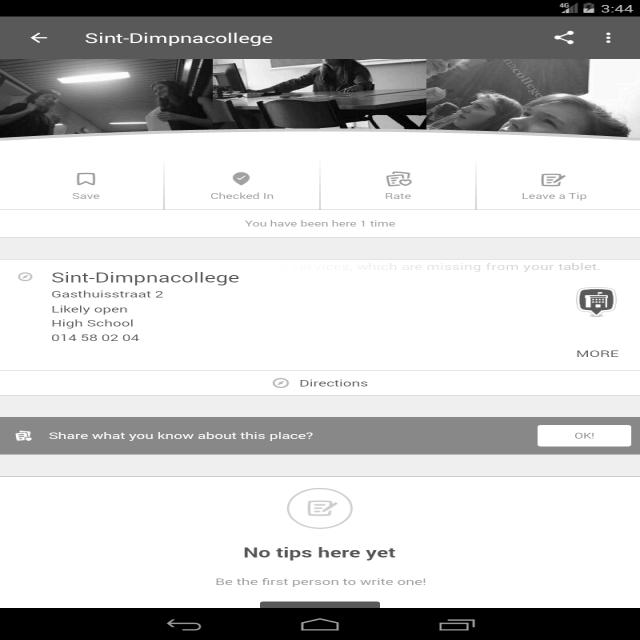Button: (534, 422, 636, 448)
ImageButton: (16, 24, 62, 48), (544, 27, 586, 51), (595, 25, 633, 50)
ImageView: (3, 59, 634, 138), (281, 485, 358, 529), (571, 284, 622, 318), (532, 170, 571, 188), (379, 169, 416, 187), (71, 169, 101, 187), (9, 427, 37, 445), (226, 170, 254, 184)
TextView: (38, 268, 250, 346), (74, 25, 280, 51), (45, 427, 320, 445), (208, 571, 434, 591), (232, 538, 405, 564), (239, 214, 402, 230), (569, 342, 627, 364), (296, 375, 372, 391), (518, 190, 592, 201), (207, 190, 279, 200), (380, 191, 415, 201), (68, 192, 104, 200)
